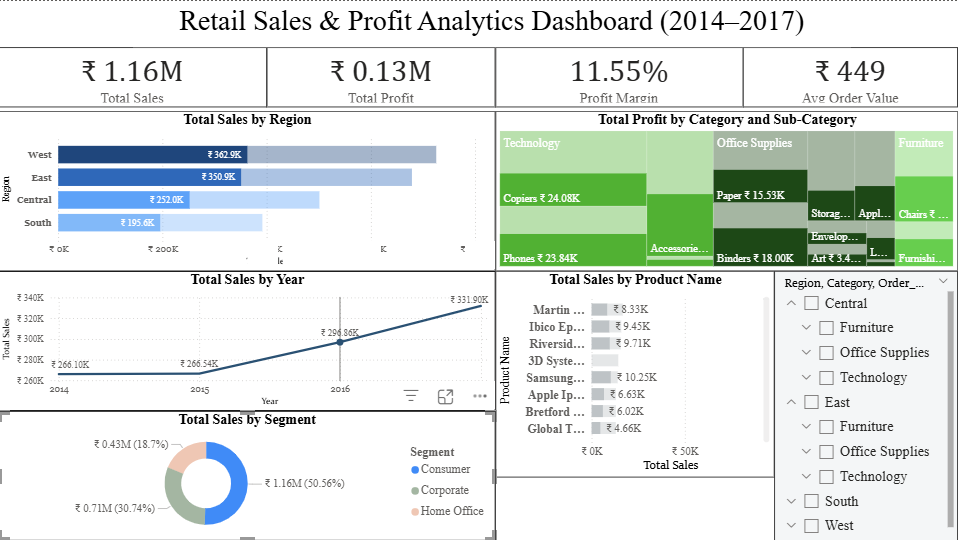

The dashboard page shown, as its layout file describes it:
{"tool":"powerbi","page":{"name":"Page 1","canvas":[1280,720],"ordinal":0},"visuals":[{"type":"clusteredBarChart","fields":{"Y":["Superstore.Total Sales"],"Category":["Superstore.Region"]},"box":[0,146.7,663.3,213.3],"z":0},{"type":"treemap","fields":{"Group":["Superstore.Category"],"Details":["Superstore.Sub-Category"],"Values":["Superstore.Total Profit"]},"box":[663.3,146.7,616.7,213.3],"z":1000},{"type":"card","fields":{"Values":["Superstore.Total Sales"]},"box":[0,61,358.3,80],"z":2000},{"type":"card","fields":{"Values":["Superstore.Total Profit"]},"box":[358.3,61,305,80],"z":3000},{"type":"card","fields":{"Values":["Superstore.Profit Margin"]},"box":[663.3,61,330,80],"z":4000},{"type":"card","fields":{"Values":["Superstore.Avg Order Value"]},"box":[993.3,61,286.7,80],"z":5000},{"type":"lineChart","fields":{"Category":["Superstore.Order Date.Variation.Date Hierarchy.Year","Superstore.Order Date.Variation.Date Hierarchy.Quarter","Superstore.Order Date.Variation.Date Hierarchy.Month","Superstore.Order Date.Variation.Date Hierarchy.Day"],"Y":["Superstore.Total Sales"]},"box":[0,360,663.3,186.7],"z":6000},{"type":"barChart","fields":{"Category":["Superstore.Product Name"],"Y":["Superstore.Total Sales"]},"box":[663.3,360,371.7,275],"z":7000},{"type":"donutChart","fields":{"Category":["Superstore.Segment"],"Y":["Superstore.Total Sales"]},"box":[0,547.1,662.9,172.9],"z":8000},{"type":"slicer","fields":{"Values":["Superstore.Region","Superstore.Category","Superstore.Order_Year"]},"box":[1035,360,245,360],"z":9000},{"type":"textbox","box":[180,0,956.7,61.7],"z":10000}]}

Visuals, with their boxes in screenshot pixels (x1, y1, x2, y2), scaled from the page's 1280x720 canvas onto the 958x540 screenshot:
clusteredBarChart - Superstore.Total Sales x Superstore.Region: box(0, 110, 496, 270)
treemap - Superstore.Category x Superstore.Sub-Category: box(496, 110, 957, 270)
card - Superstore.Total Sales: box(0, 46, 268, 106)
card - Superstore.Total Profit: box(268, 46, 496, 106)
card - Superstore.Profit Margin: box(496, 46, 743, 106)
card - Superstore.Avg Order Value: box(743, 46, 957, 106)
lineChart - Superstore.Order Date.Variation.Date Hierarchy.Year x Superstore.Order Date.Variation.Date Hierarchy.Quarter: box(0, 270, 496, 410)
barChart - Superstore.Product Name x Superstore.Total Sales: box(496, 270, 775, 476)
donutChart - Superstore.Segment x Superstore.Total Sales: box(0, 410, 496, 539)
slicer - Superstore.Region x Superstore.Category: box(775, 270, 957, 539)
textbox: box(135, 0, 851, 46)
